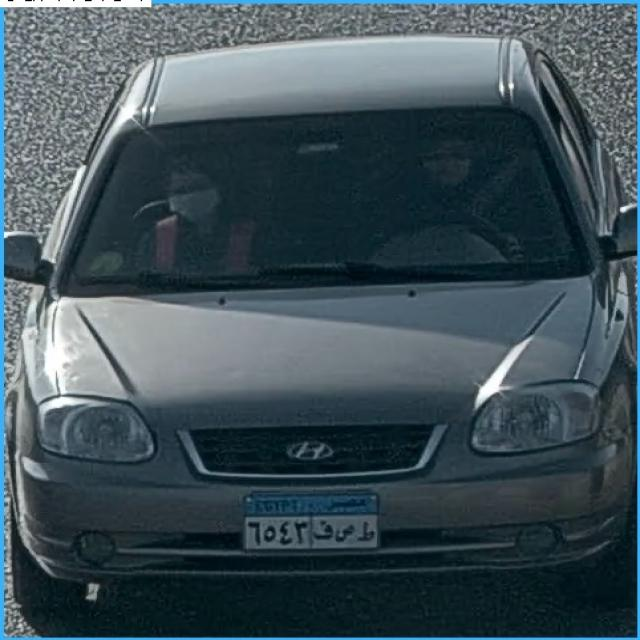windshield: (57, 117, 582, 290)
